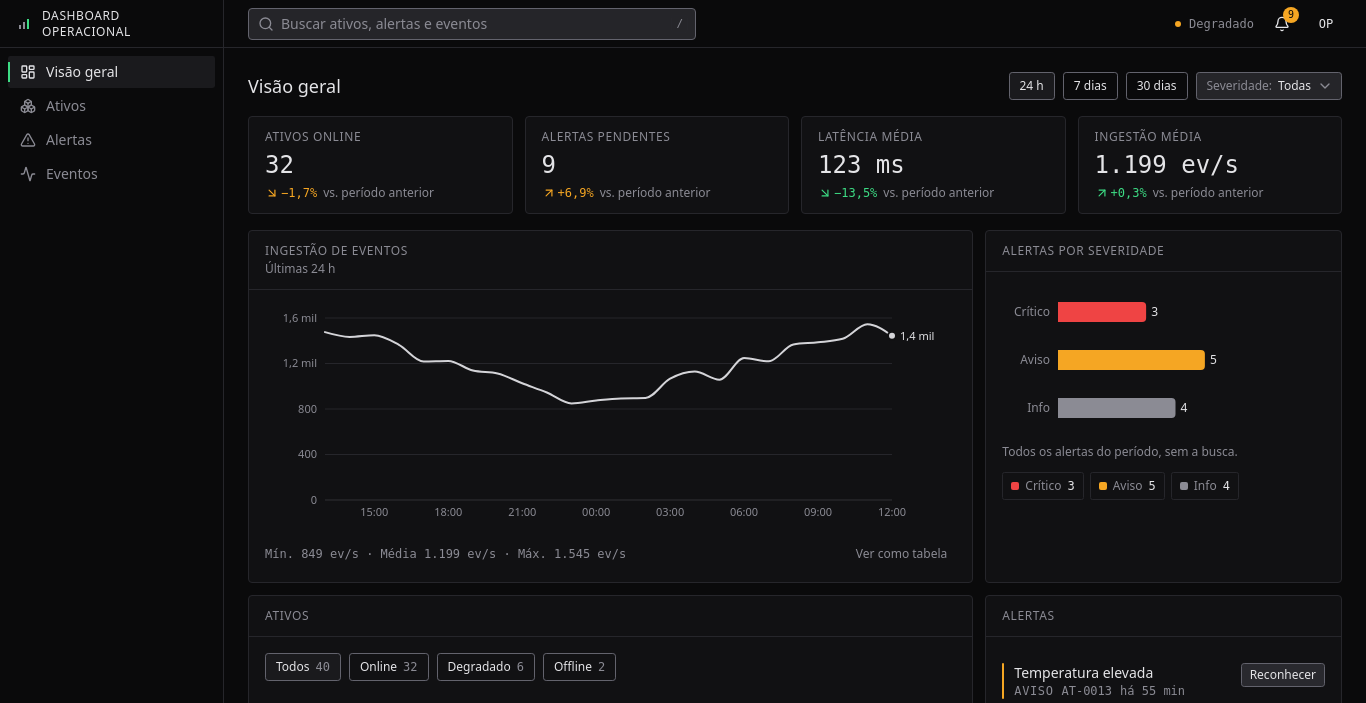
Test: acessibilidade (axe) › menu do perfil aberto, sem violações
Step 1. Click the button with aria-label "Menu do perfil" → (1326, 24), box [1310, 8, 1342, 40]
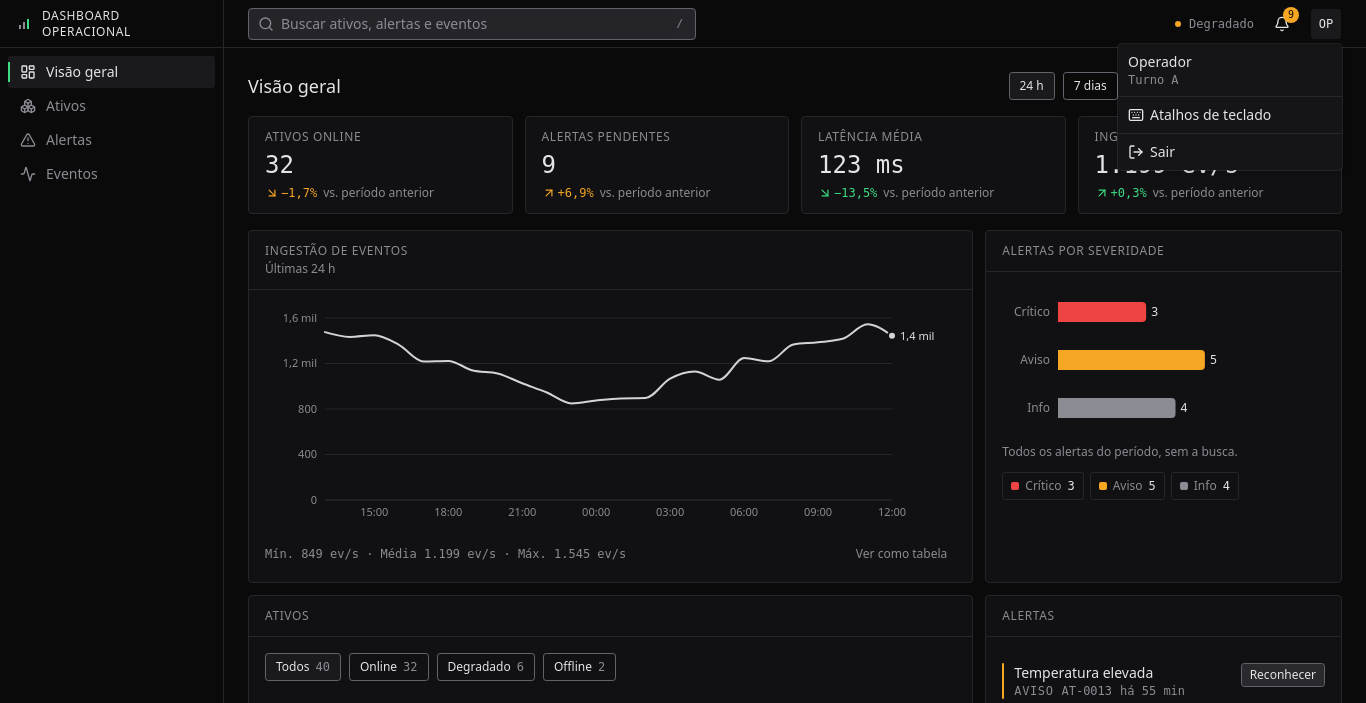
Now the menu is shown, box [1118, 44, 1342, 170]
